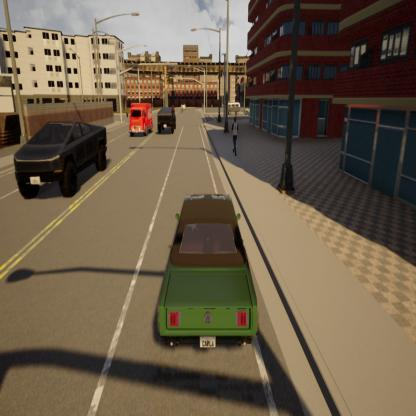Cars: (147, 184, 262, 356), (12, 110, 110, 206), (128, 99, 154, 139), (155, 102, 178, 140), (225, 99, 240, 118), (180, 101, 187, 115)
Pedestrian: (227, 112, 243, 158)
